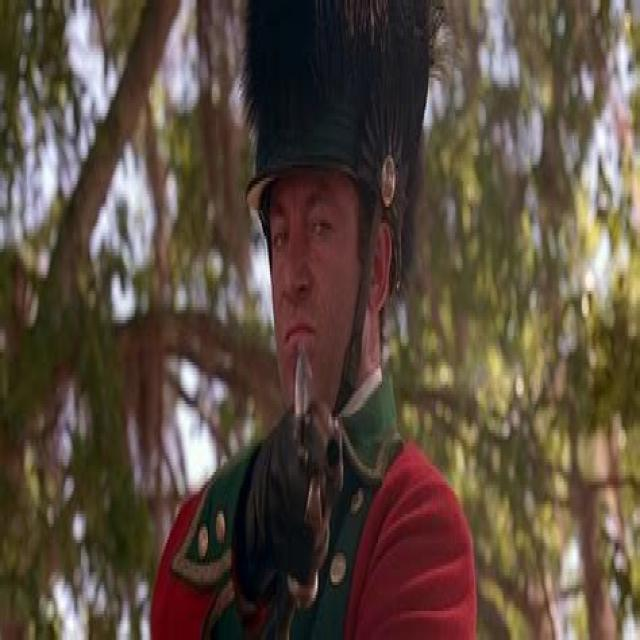weapons: (256, 356, 358, 618)
